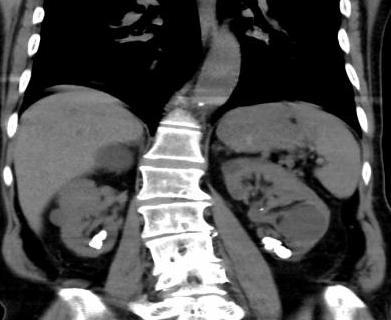Tas_Var: (85, 227, 110, 252), (272, 244, 294, 260), (261, 236, 284, 250), (260, 206, 265, 214)
